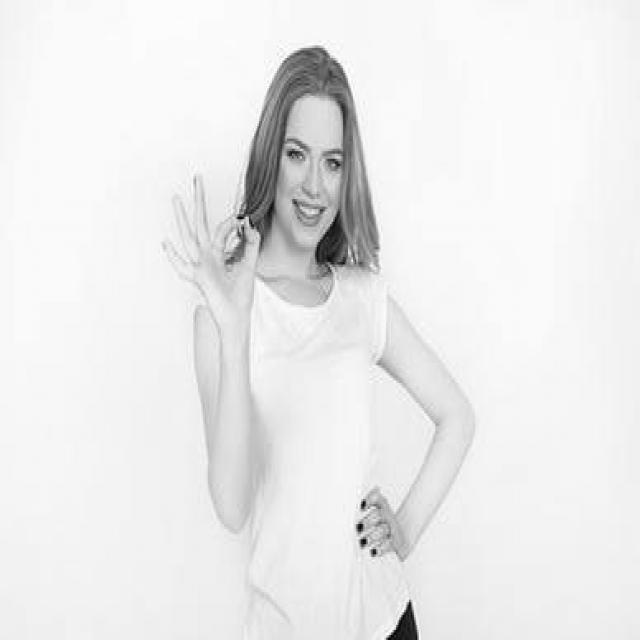perfect: (155, 166, 265, 343)
